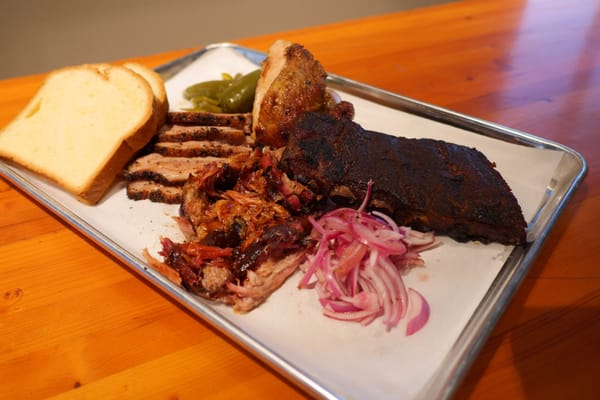soup: (1, 59, 170, 206)
